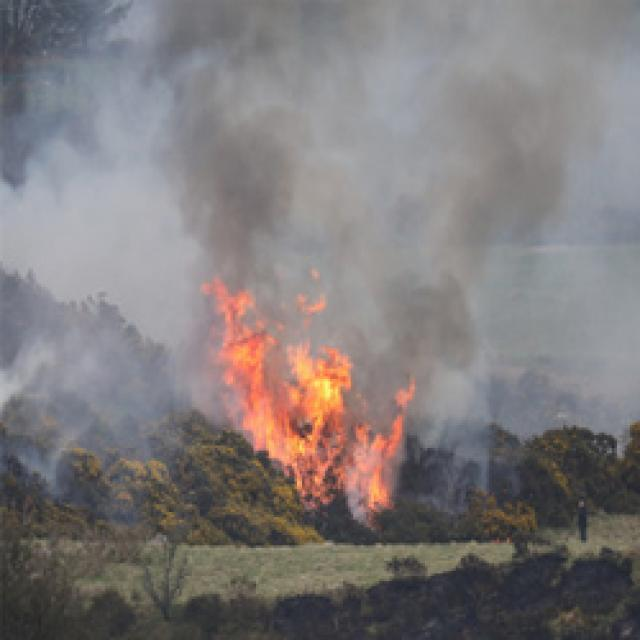Fire: (204, 276, 409, 518)
Smoke: (207, 0, 634, 276), (0, 0, 202, 507), (404, 277, 640, 502)
